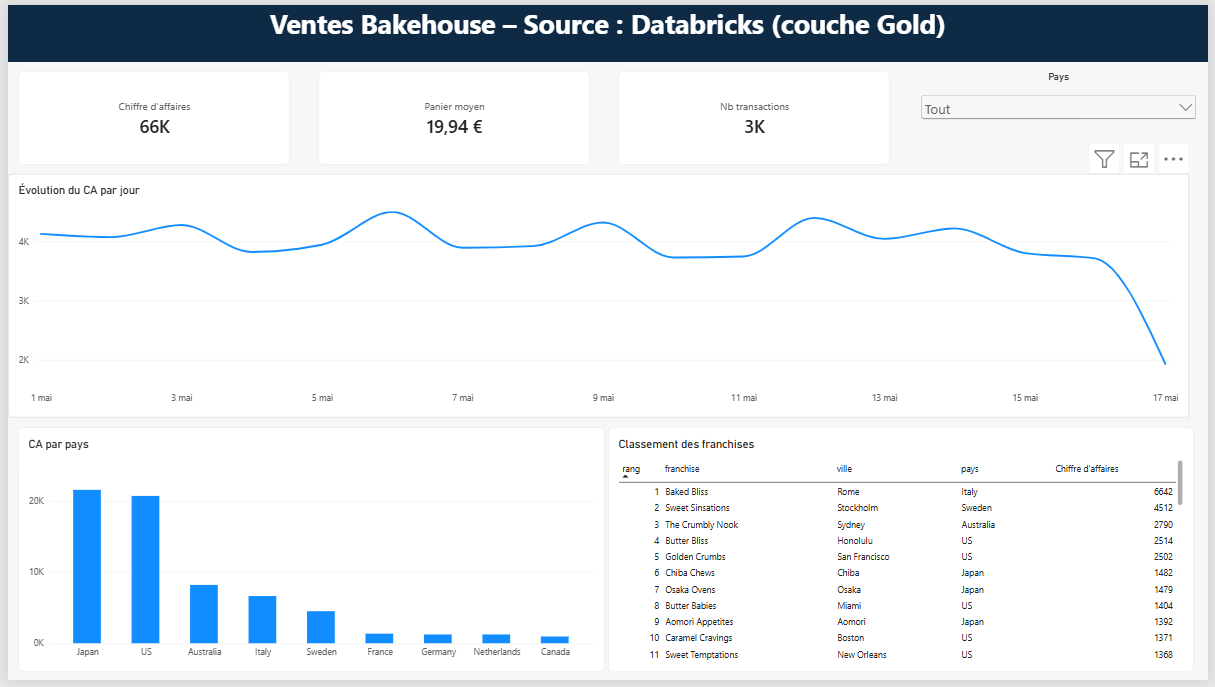

What the dashboard file says about the page in this screenshot:
{"tool":"powerbi","page":{"name":"Synthèse des ventes","canvas":[1920,1080],"ordinal":0},"visuals":[{"type":"cardVisual","fields":{"Data":["Sum(ca_pays_jour.chiffre_affaires)"]},"box":[15,105,435,150],"z":0},{"type":"cardVisual","fields":{"Data":["ca_pays_jour.Panier moyen"]},"box":[495,105,435,150],"z":1000},{"type":"cardVisual","fields":{"Data":["Sum(ca_pays_jour.nb_transactions)"]},"box":[975,105,435,150],"z":2000},{"type":"slicer","title":"Pays","fields":{"Values":["ca_pays_jour.pays"]},"box":[1455,105,450,150],"z":3000},{"type":"lineChart","title":"Évolution du CA par jour","fields":{"Category":["ca_pays_jour.date_vente"],"Y":["Sum(ca_pays_jour.chiffre_affaires)"]},"box":[0,270,1890,390],"z":4000},{"type":"clusteredColumnChart","title":"CA par pays","fields":{"Category":["ca_pays_jour.pays"],"Y":["Sum(ca_pays_jour.chiffre_affaires)"]},"box":[15,675,938,390],"z":5000},{"type":"tableEx","title":"Classement des franchises","fields":{"Values":["classement_franchises.rang","classement_franchises.franchise","classement_franchises.ville","classement_franchises.pays","Sum(classement_franchises.chiffre_affaires)"]},"box":[960,675,937,390],"z":6000},{"type":"textbox","box":[0,0,1920,91],"z":7000}]}

Visuals, with their boxes in screenshot pixels (x1, y1, x2, y2), scaled from the page's 1920x1080 canvas onto the 1215x687 screenshot:
cardVisual - Sum(ca_pays_jour.chiffre_affaires): [x1=9, y1=67, x2=285, y2=162]
cardVisual - ca_pays_jour.Panier moyen: [x1=313, y1=67, x2=589, y2=162]
cardVisual - Sum(ca_pays_jour.nb_transactions): [x1=617, y1=67, x2=892, y2=162]
"Pays" slicer: [x1=921, y1=67, x2=1206, y2=162]
"Évolution du CA par jour" lineChart: [x1=0, y1=172, x2=1196, y2=420]
"CA par pays" clusteredColumnChart: [x1=9, y1=429, x2=603, y2=677]
"Classement des franchises" tableEx: [x1=608, y1=429, x2=1200, y2=677]
textbox: [x1=0, y1=0, x2=1214, y2=58]
